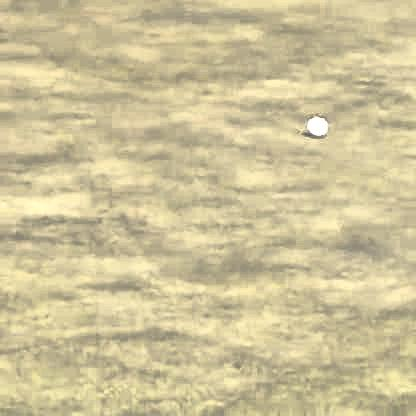golfball: (303, 114, 325, 136)
